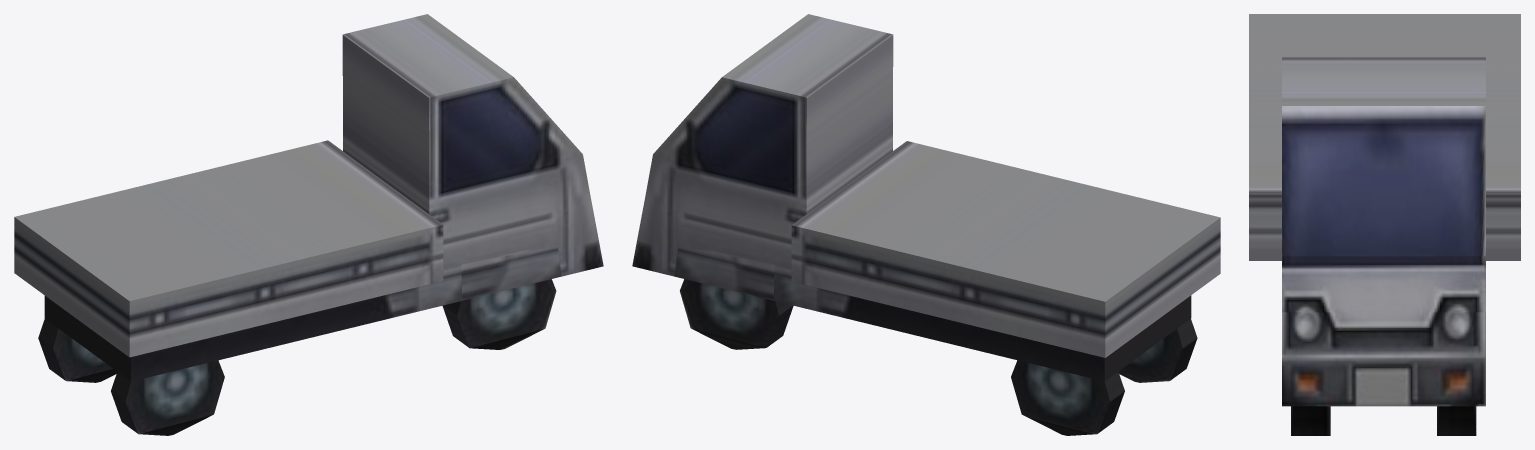
File: modelNew.glb
3 views of the same model, side by side, from view 1: azimuth 30°, elevation 25°; view 2: azimuth 150°, elevation 25°; view 3: azimuth 270°, elevation 25° (orthographic). The views are drawn at different scales.
Visible parts, largest first — view 1: Car_Material_0; view 2: Car_Material_0; view 3: Car_Material_0.
Part boxes in pixels (x1,y1,x2,y2): Car_Material_0: (14,14,603,435); Car_Material_0: (632,14,1220,435); Car_Material_0: (1249,14,1520,435).
Size of the model in its own units: 3.39 by 1.85 by 1.39.
1 material, 1 textured.
